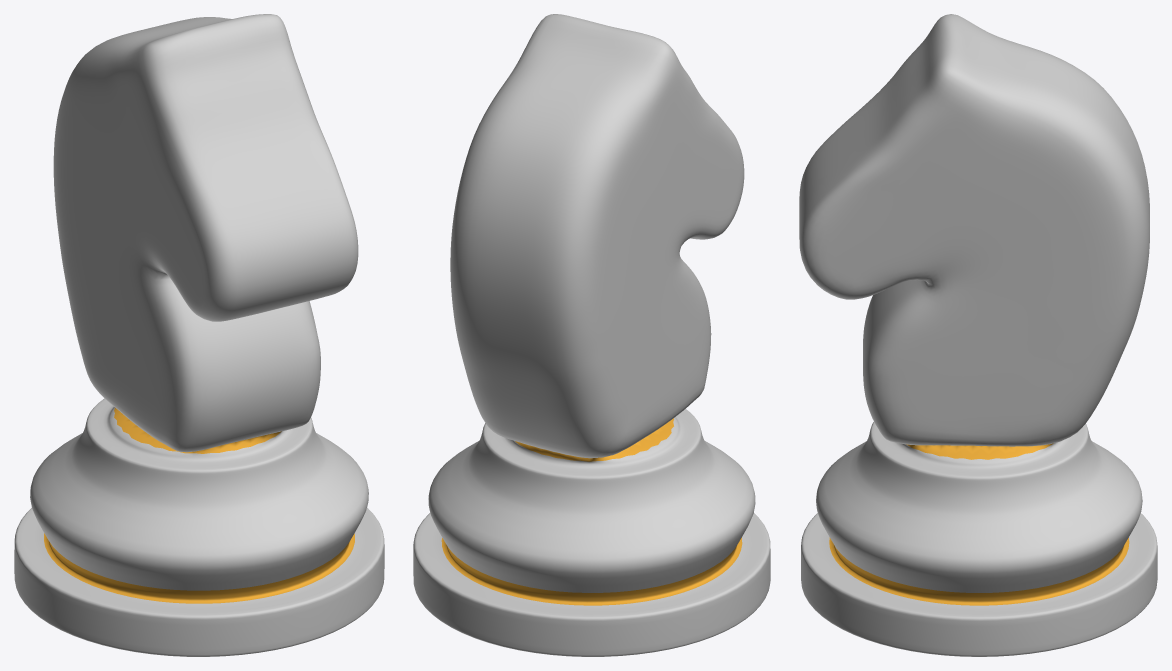
File: gercek6_n_w.glb
3 renders of one model, left to right at view 1: azimuth 30°, elevation 25°; view 2: azimuth 150°, elevation 25°; view 3: azimuth 270°, elevation 25°, orthographic. The views are drawn at different scales.
Parts seen in each view (by area): view 1: Circle.009; view 2: Circle.009; view 3: Circle.009.
Part boxes in pixels (x1,y1,x2,y2): Circle.009: [14, 14, 384, 656]; Circle.009: [413, 14, 770, 656]; Circle.009: [799, 14, 1157, 656].
Bounding box in the file's own units: 27.61 × 46.54 × 27.74.
